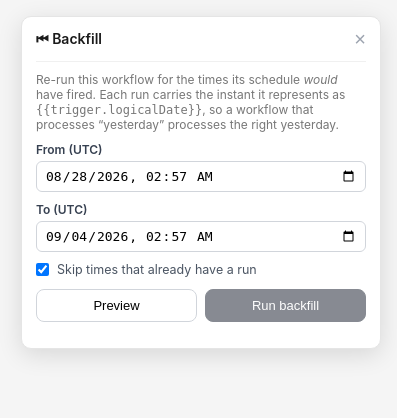
BackfillPanel › surfaces a planning error instead of a count
This screenshot has width=397, height=418.
Click the button "Preview" at (116, 306), box [36,289,197,322]
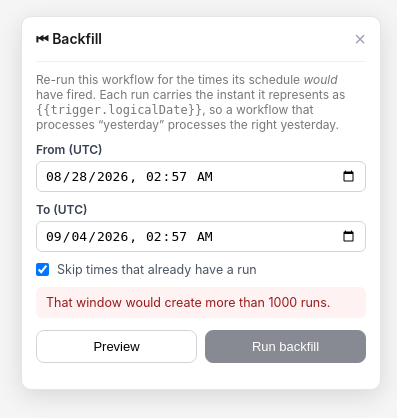
Result: the text "That window would create more than 1000 runs." is shown at [36,287,366,318]
